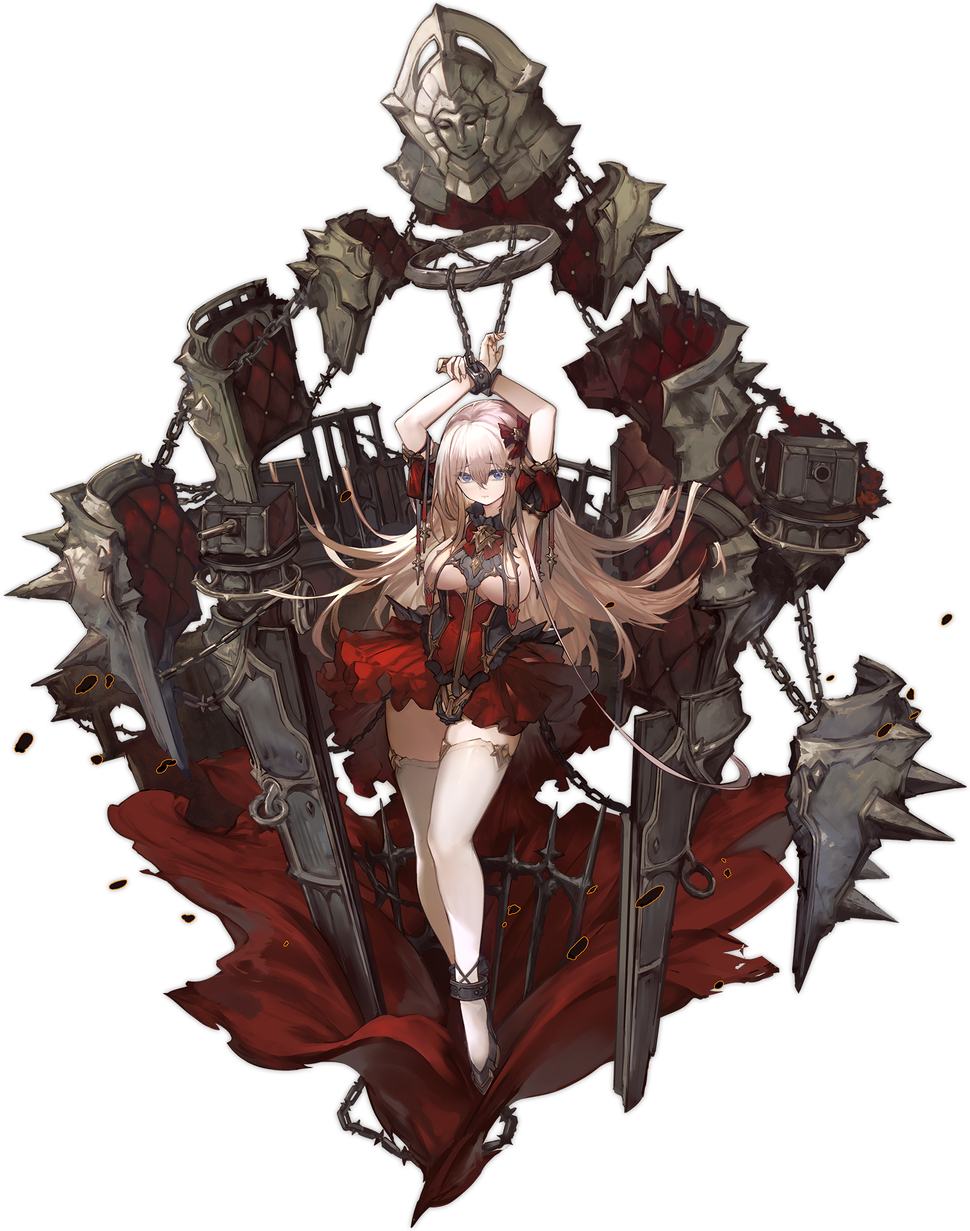person: (309, 373, 632, 1156)
